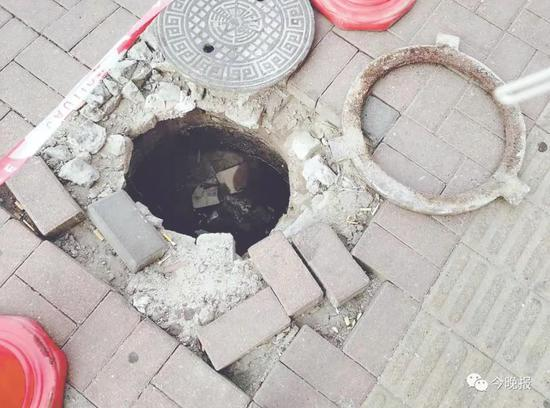wellcover: (98, 0, 331, 279)
